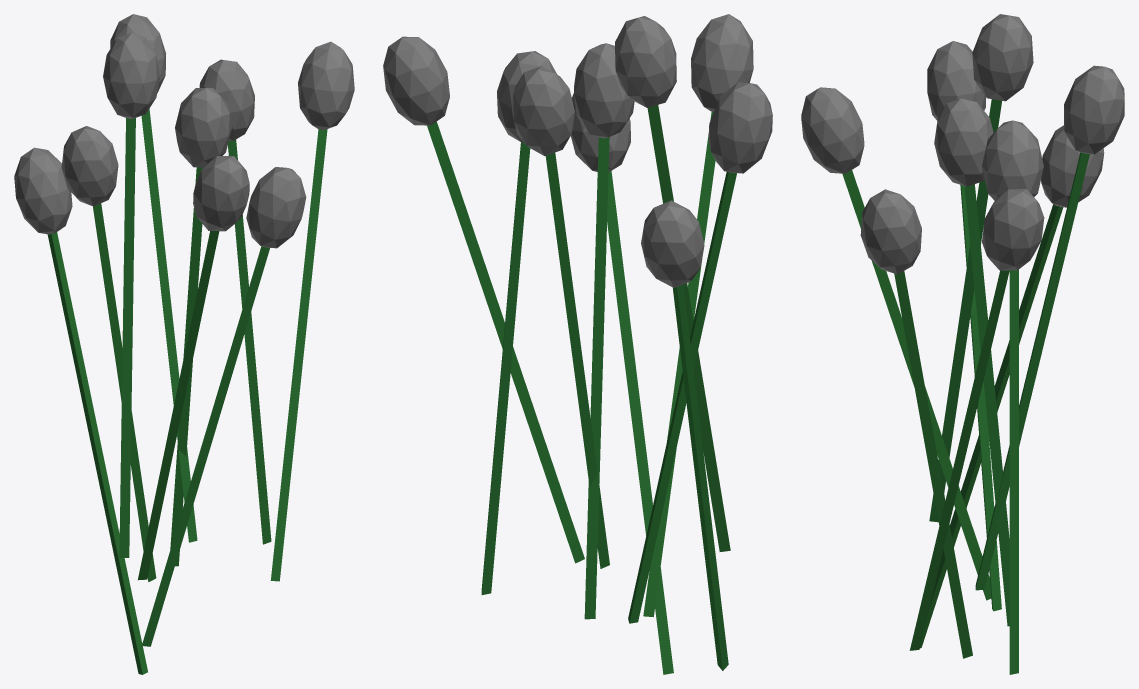
Rendered from villpea.fbx.
3 renders of one model, left to right at view 1: azimuth 30°, elevation 25°; view 2: azimuth 150°, elevation 25°; view 3: azimuth 270°, elevation 25°, orthographic. The views are drawn at different scales.
Visible parts, largest first — view 1: Icosphere.007; view 2: Icosphere.007; view 3: Icosphere.007.
Boxes of the visible parts, x1,y1,x2,y2 form: Icosphere.007: (14, 14, 354, 674); Icosphere.007: (383, 14, 772, 674); Icosphere.007: (801, 14, 1124, 674).
Size of the model in its own units: 71.61 by 133 by 59.76.
